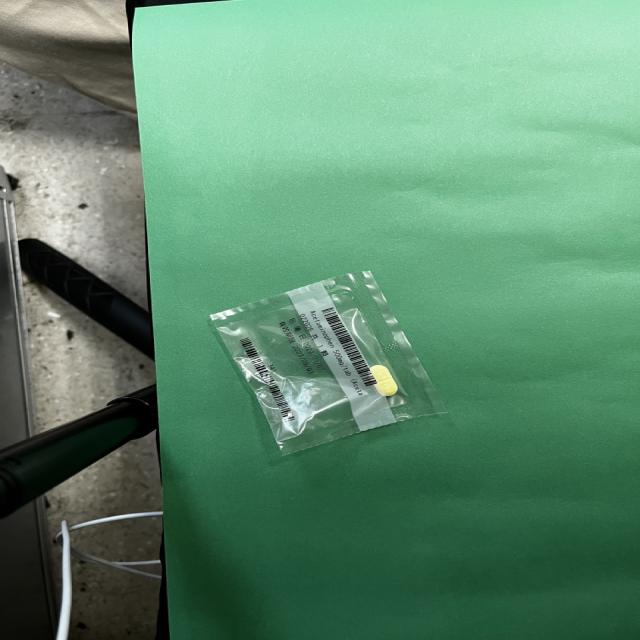Other Objects: (209, 273, 441, 454)
